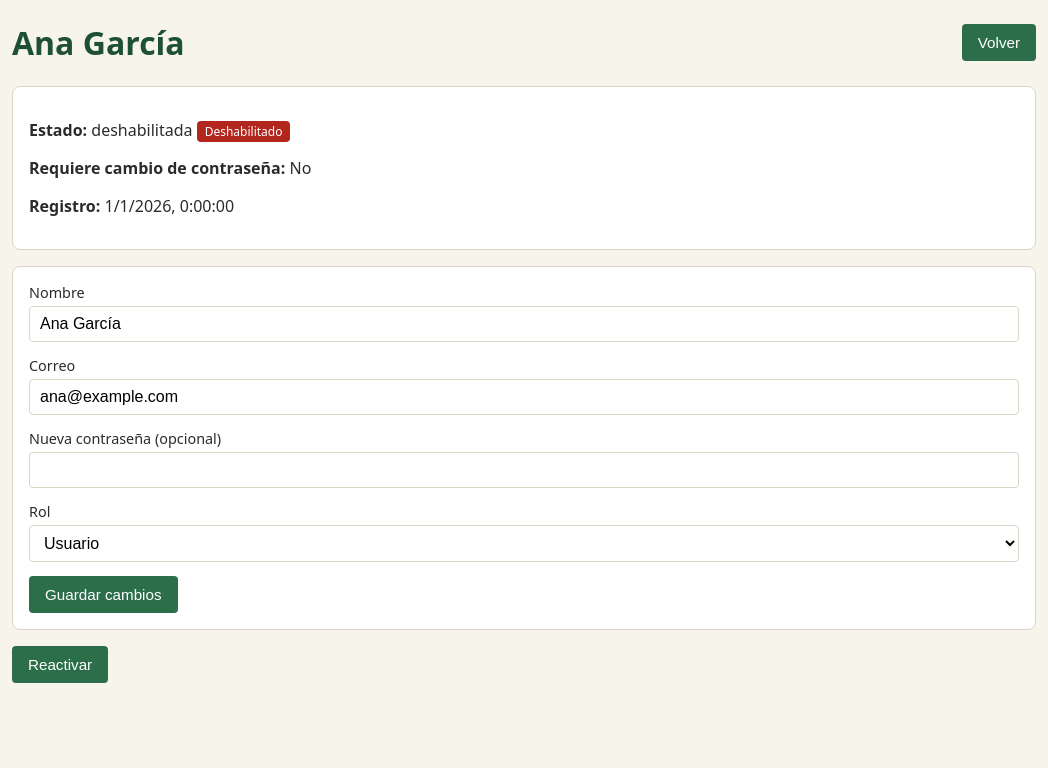
it: Estado de usuario (US4) › reactiva a un usuario deshabilitado
Click the button "Reactivar" at (60, 664), box [12, 646, 108, 683]
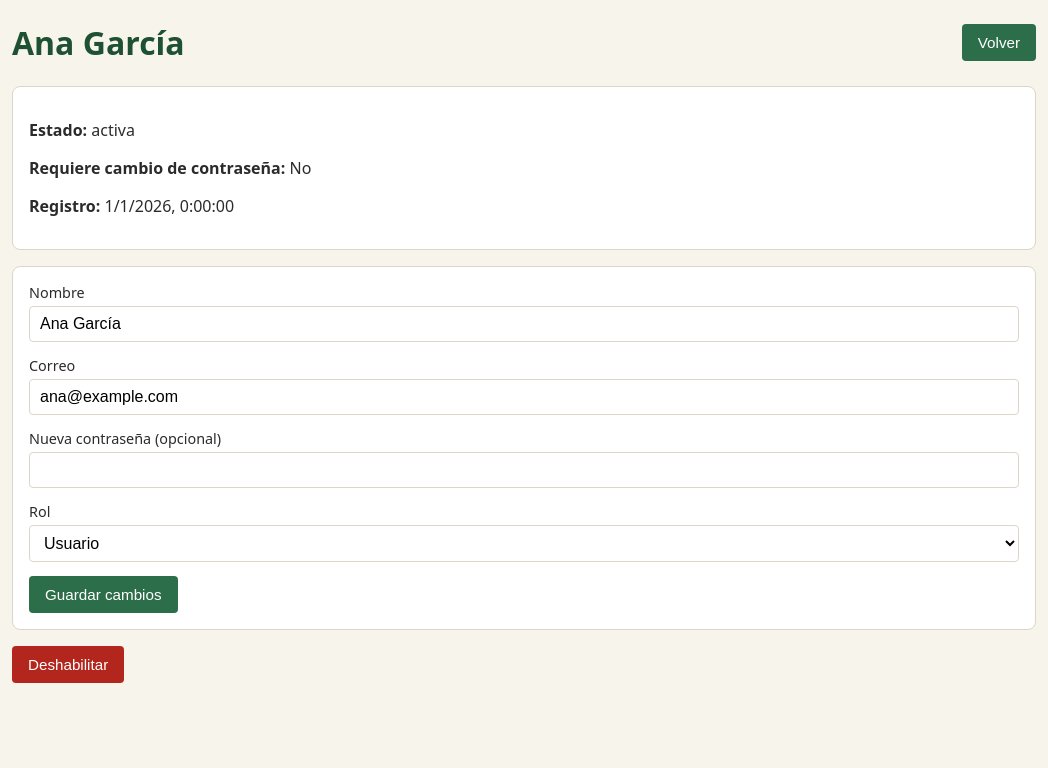
Expected: the text "activa" is shown, [91, 119, 135, 141]
